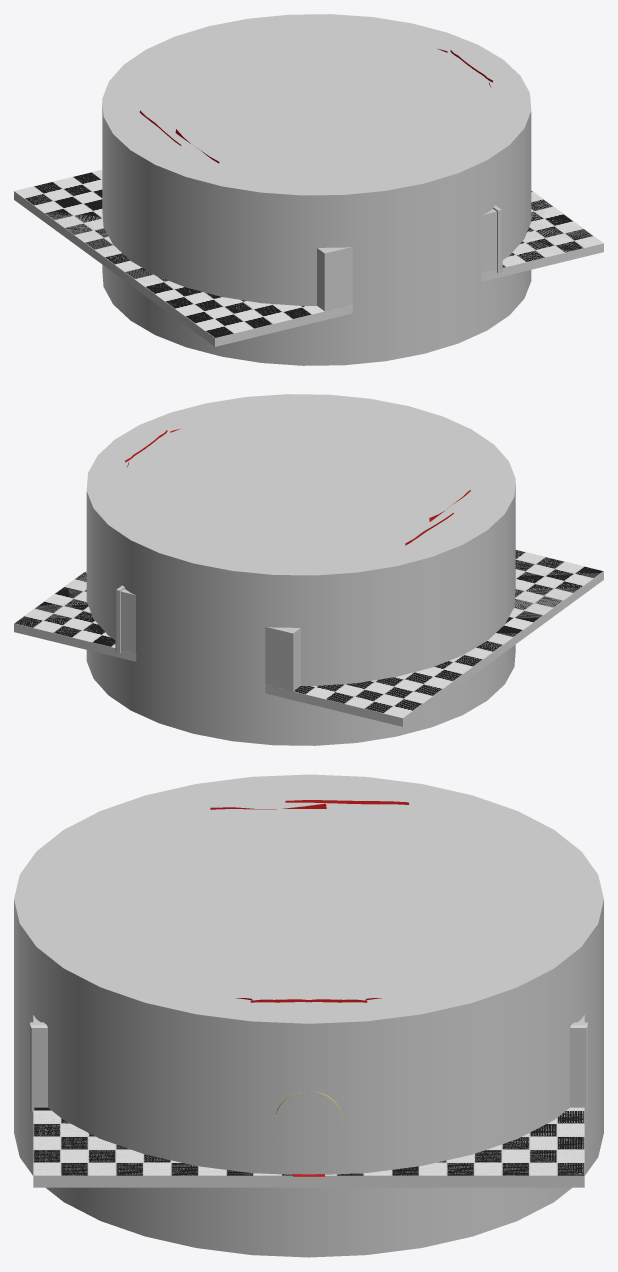
Rendered from Map Vincent.fbx.
3 views of the same model, one above another, from view 1: azimuth 30°, elevation 25°; view 2: azimuth 150°, elevation 25°; view 3: azimuth 270°, elevation 25° (orthographic). The views are drawn at different scales.
Visible parts, largest first — view 1: Walls -col, Floor -col, Plane.001, StairsAndSeats -col; view 2: Walls -col, Floor -col, Plane.001, StairsAndSeats -col; view 3: Walls -col, Floor -col, Plane.001, ProtectionStairs -col.
Boxes of the visible parts, x1,y1,x2,y2 form: Walls -col: [102, 14, 531, 365]; Floor -col: [14, 169, 603, 346]; Plane.001: [14, 177, 602, 328]; StairsAndSeats -col: [317, 209, 496, 311]; Walls -col: [86, 394, 515, 745]; Floor -col: [14, 549, 603, 726]; Plane.001: [15, 550, 599, 717]; StairsAndSeats -col: [121, 589, 300, 691]; Walls -col: [14, 774, 603, 1257]; Floor -col: [33, 1107, 584, 1187]; Plane.001: [33, 1107, 584, 1175]; ProtectionStairs -col: [30, 1022, 587, 1111].
Size of the model in its own units: 11013 by 4707 by 10515.
